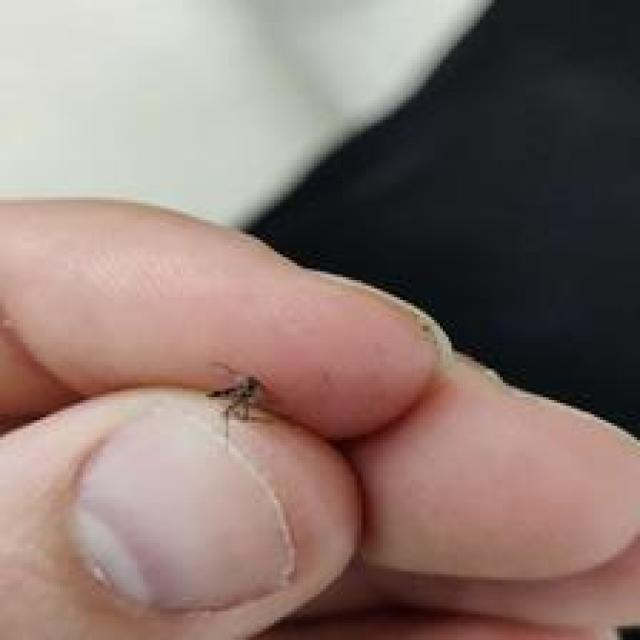Aedes albopictus: (204, 366, 267, 440)
